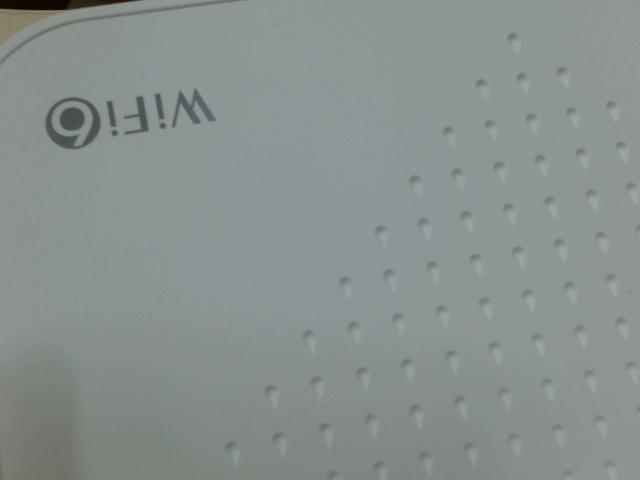AK_ZTEWIFI6: (39, 82, 229, 152)
